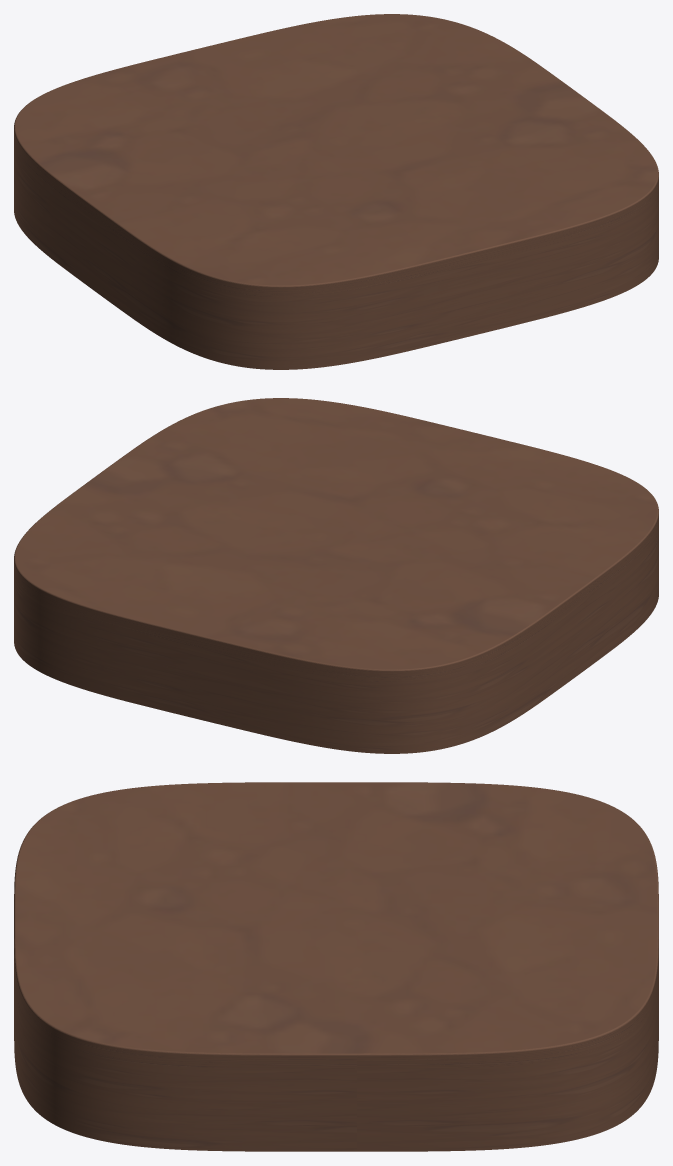
File: starter-02.glb
3 views of the same model, one above another, from view 1: azimuth 30°, elevation 25°; view 2: azimuth 150°, elevation 25°; view 3: azimuth 270°, elevation 25° (orthographic). The views are drawn at different scales.
Visible parts, largest first — view 1: geometry_0; view 2: geometry_0; view 3: geometry_0.
Boxes of the visible parts, box(x1,y1,x2,y2) form: geometry_0: box(14, 14, 658, 369); geometry_0: box(14, 398, 658, 753); geometry_0: box(14, 782, 658, 1151).
Bounding box in the file's own units: 35.99 × 6 × 35.99.
Materials: 1 (1 with a texture image).
